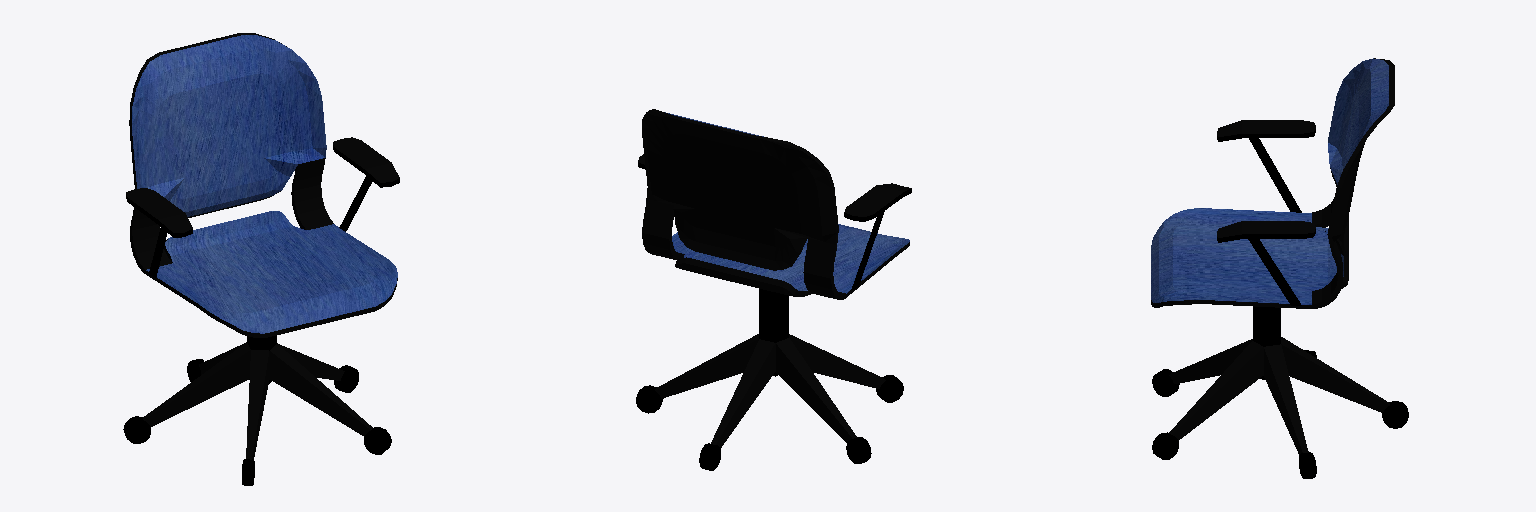
3 views of the same model, side by side, from view 1: azimuth 30°, elevation 25°; view 2: azimuth 150°, elevation 25°; view 3: azimuth 270°, elevation 25° (orthographic).
Visible parts, largest first — view 1: OfficeChair_1, OfficeChair_2, OfficeChair_3; view 2: OfficeChair_2, OfficeChair_3, OfficeChair_1; view 3: OfficeChair_1, OfficeChair_2, OfficeChair_3.
Boxes of the visible parts, box(x1,y1,x2,y2) form: OfficeChair_1: box(132, 35, 397, 333); OfficeChair_2: box(126, 33, 399, 459); OfficeChair_3: box(123, 145, 399, 485); OfficeChair_2: box(638, 109, 910, 447); OfficeChair_3: box(636, 162, 911, 470); OfficeChair_1: box(665, 112, 909, 293); OfficeChair_1: box(1151, 58, 1388, 304); OfficeChair_2: box(1151, 58, 1394, 454); OfficeChair_3: box(1152, 129, 1408, 478).
Bounding box in the file's own units: 0.717 × 1 × 0.6832.
3 materials, 1 textured.